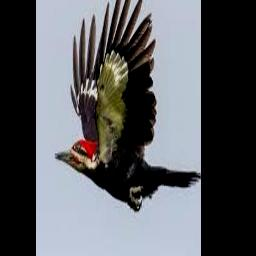Woodpecker: (54, 0, 201, 212)
